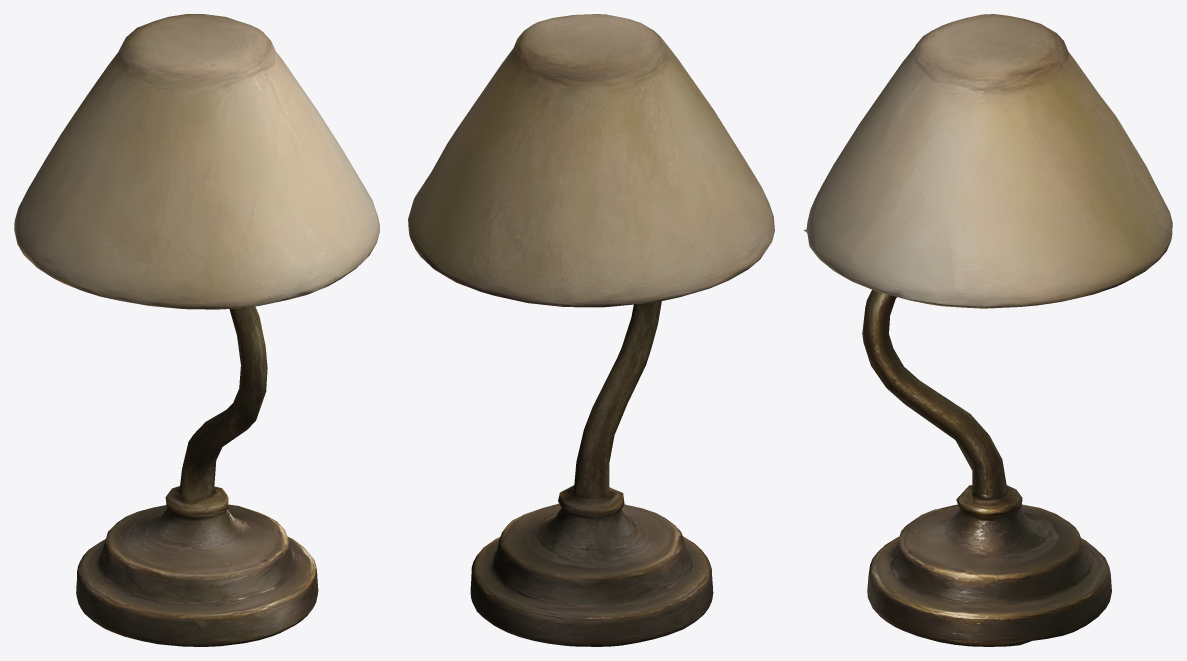
File: table+lamp+3d+model.glb
3 renders of one model, left to right at view 1: azimuth 30°, elevation 25°; view 2: azimuth 150°, elevation 25°; view 3: azimuth 270°, elevation 25°, orthographic.
Visible parts, largest first — view 1: tripo_node_7ca07959-9440-4d1d-88cc-70e1daddcbc6; view 2: tripo_node_7ca07959-9440-4d1d-88cc-70e1daddcbc6; view 3: tripo_node_7ca07959-9440-4d1d-88cc-70e1daddcbc6.
Part boxes in pixels (left/top/right/bottom): tripo_node_7ca07959-9440-4d1d-88cc-70e1daddcbc6: left=14, top=14, right=379, bottom=646; tripo_node_7ca07959-9440-4d1d-88cc-70e1daddcbc6: left=408, top=14, right=774, bottom=646; tripo_node_7ca07959-9440-4d1d-88cc-70e1daddcbc6: left=803, top=14, right=1172, bottom=646.
Size of the model in its own units: 0.5922 by 1 by 0.5975.
1 material, 1 textured.
